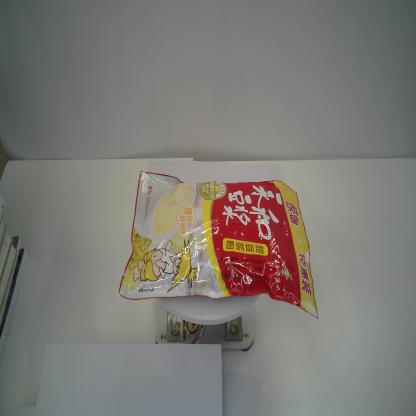Instant Drink: (115, 168, 319, 321)
